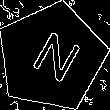N_SW: (22, 25, 82, 89)
